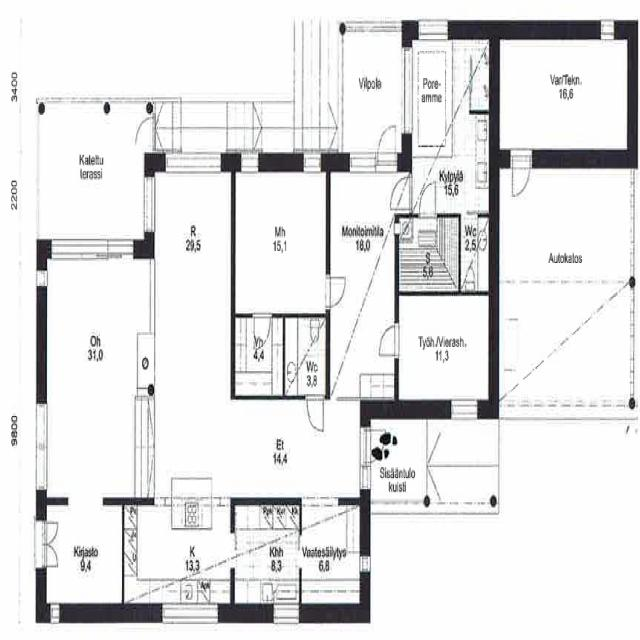door: (376, 120, 394, 172), (360, 430, 389, 462), (513, 150, 530, 201), (378, 326, 398, 356), (136, 118, 155, 149), (36, 544, 60, 568), (36, 521, 60, 545), (392, 178, 411, 208), (327, 277, 346, 307), (420, 184, 436, 218), (254, 313, 270, 347), (307, 395, 322, 428)
